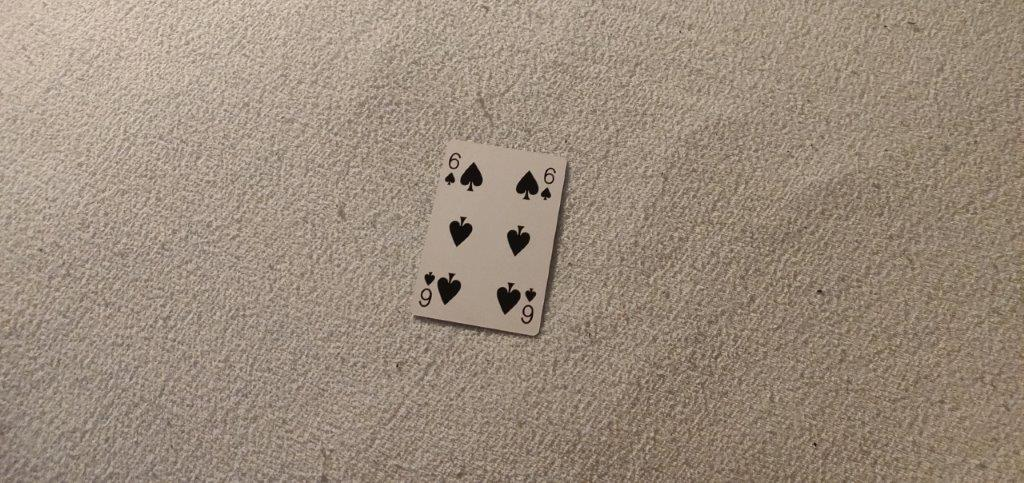6S: (538, 165, 560, 204), (444, 146, 463, 188)
